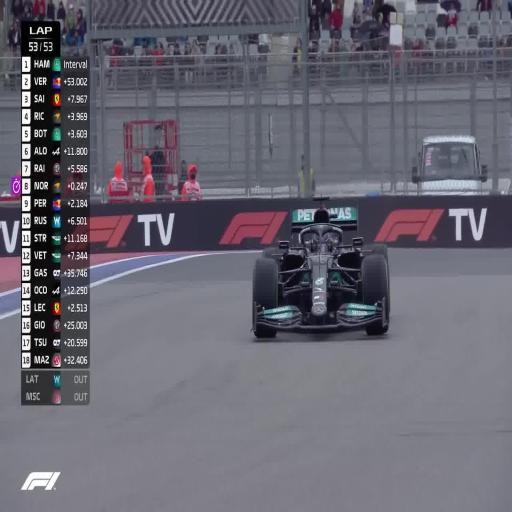f1_car: (252, 206, 390, 338)
